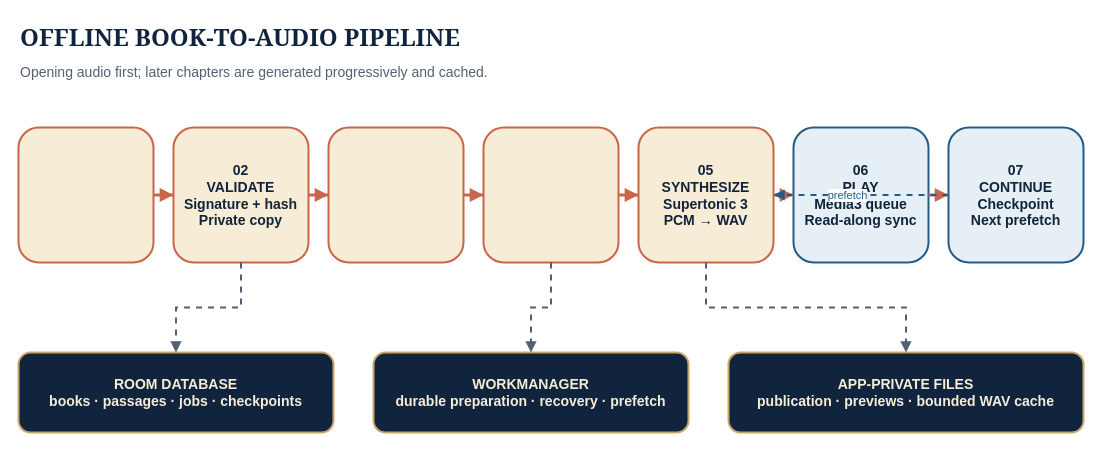
Image size: 1101x450. Some labels were removed from this diagram. Here are the shapes that lost their labels. From the top down, the box of each, then its label:
(17, 126, 154, 263): 01 SELECT Android SAF PDF or EPUB
(327, 126, 464, 263): 03 EXTRACT Chapters + text OCR if needed
(482, 126, 619, 263): 04 ATTRIBUTE Dialogue cues Voice identity
